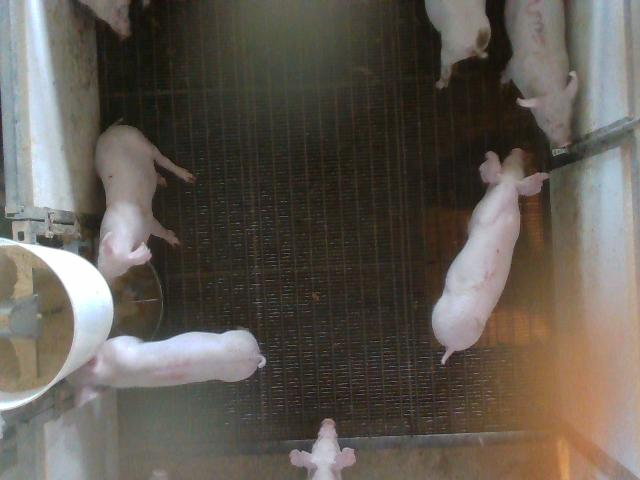pig-3: (501, 0, 579, 149)
pig-4: (69, 330, 265, 404)
